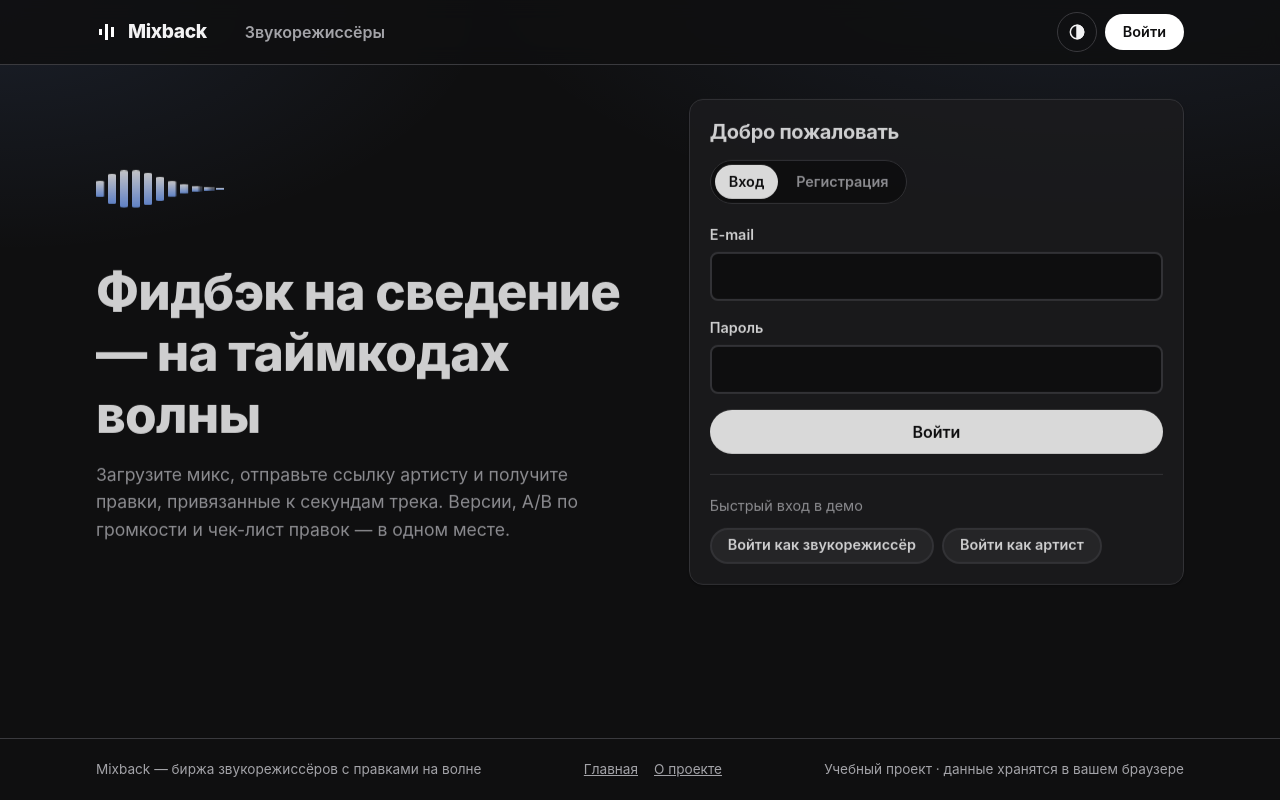
it: авторизация и защита маршрутов › вход под артистом: в шапке имя, проекты только его
Click the button "Войти как артист" at coordinates (1022, 545), box left=942, top=527, right=1102, bottom=563
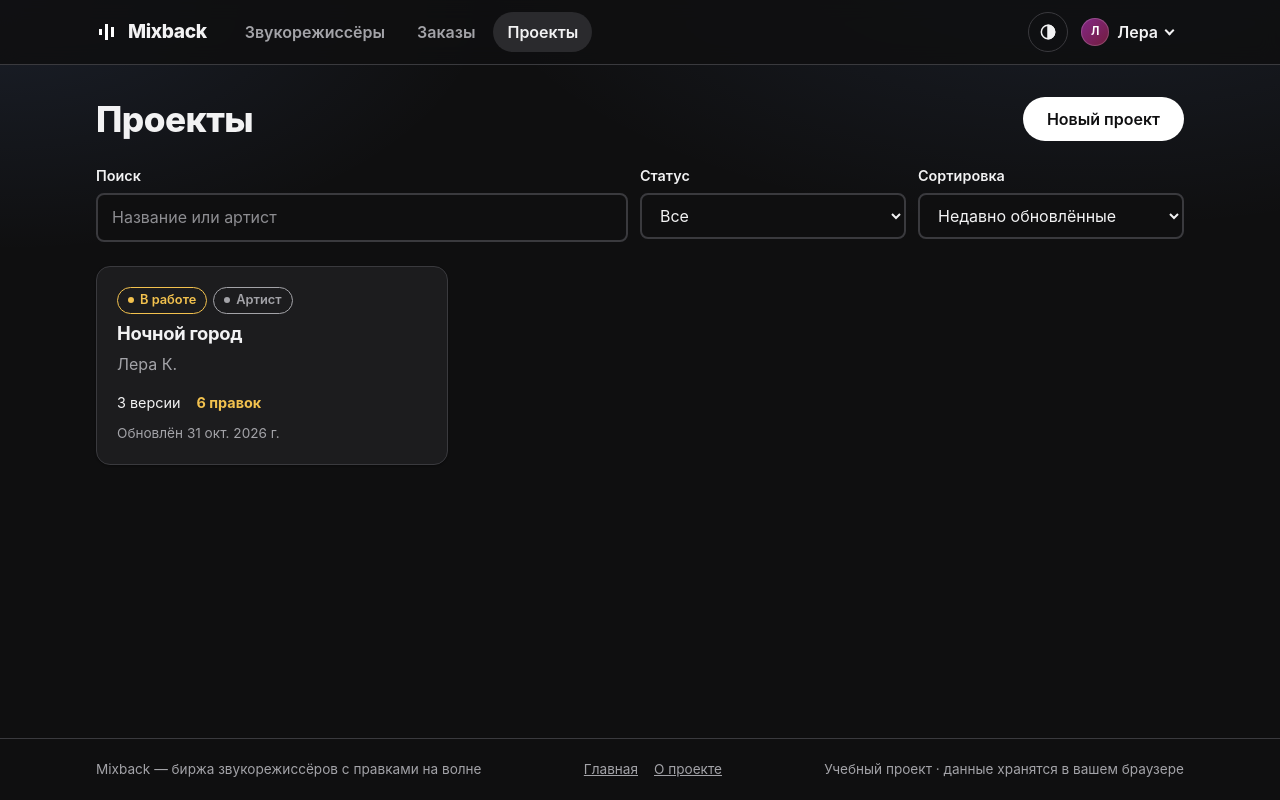
Result: the heading "Проекты" is shown at left=96, top=98, right=253, bottom=140
Result: the text "Лера" is shown at left=1117, top=20, right=1158, bottom=44
Result: the link "Ночной город" is shown at left=117, top=322, right=242, bottom=344
